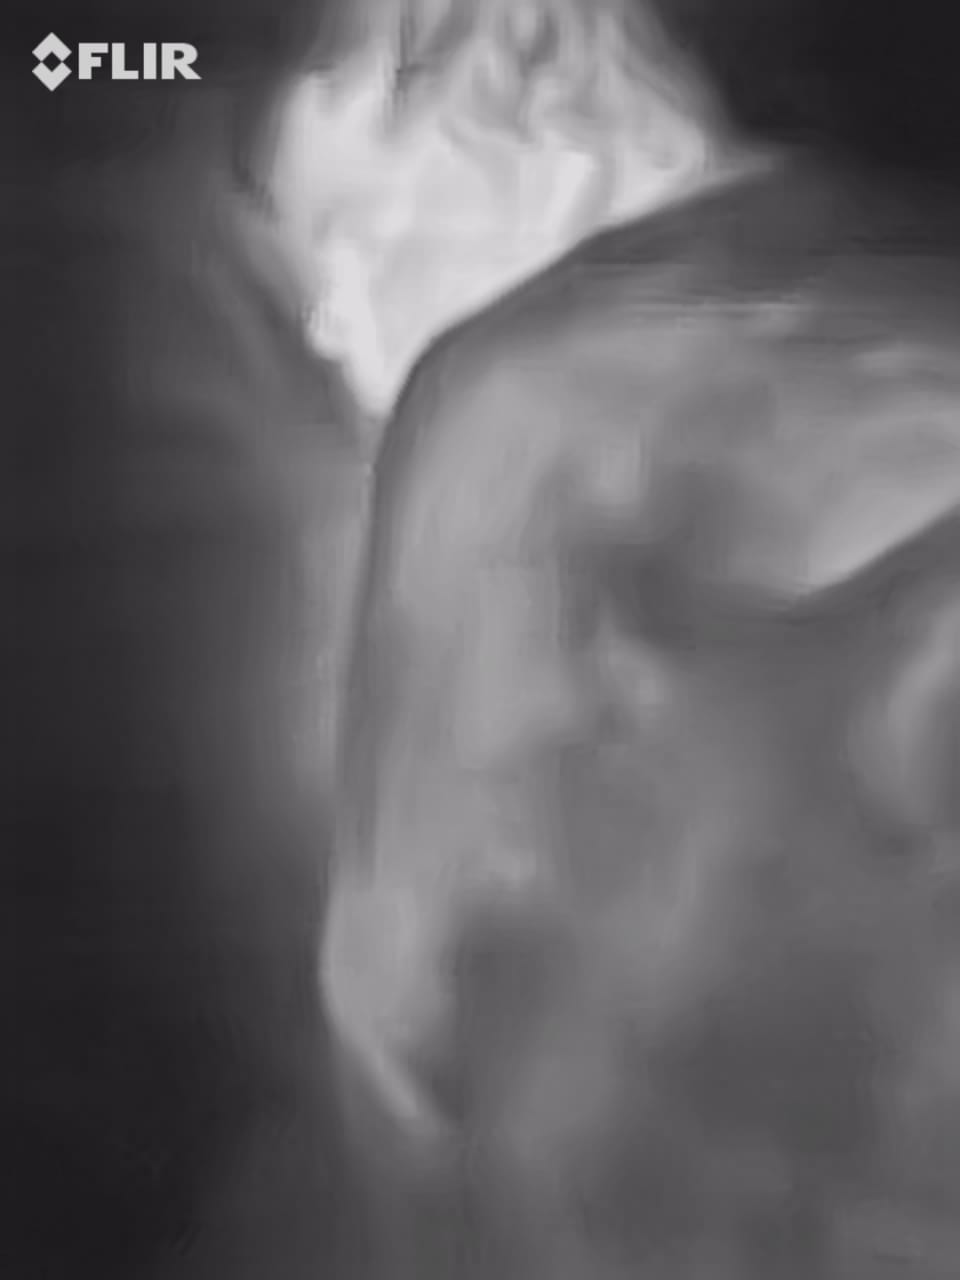head: (225, 1, 751, 426)
